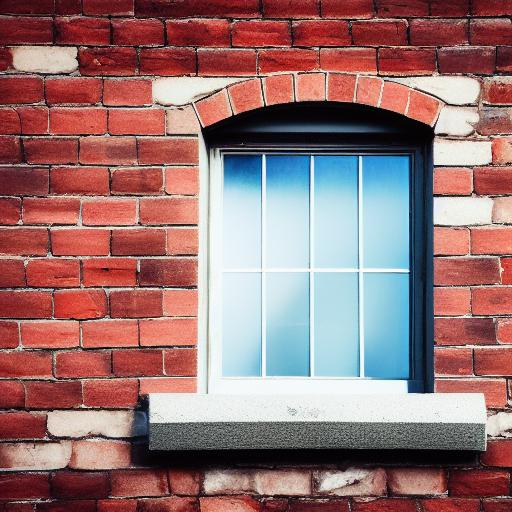Window: (146, 74, 489, 461)
